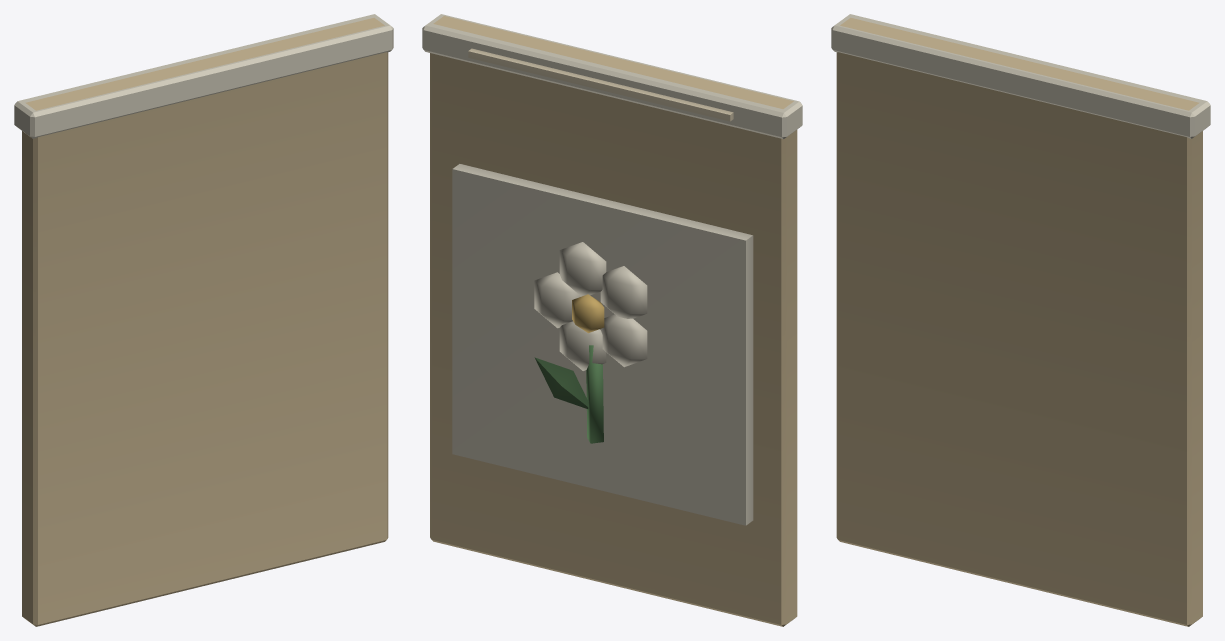
The model's file is seed_flower_white_low.glb.
3 views of the same model, side by side, from view 1: azimuth 30°, elevation 25°; view 2: azimuth 150°, elevation 25°; view 3: azimuth 330°, elevation 25° (orthographic).
Size of the model in its own units: 0.174 by 0.236 by 0.0318.
